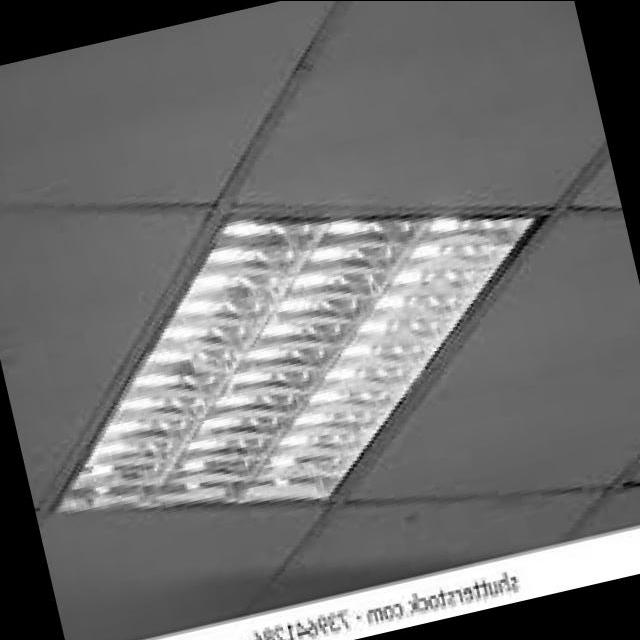light: (54, 207, 547, 518)
